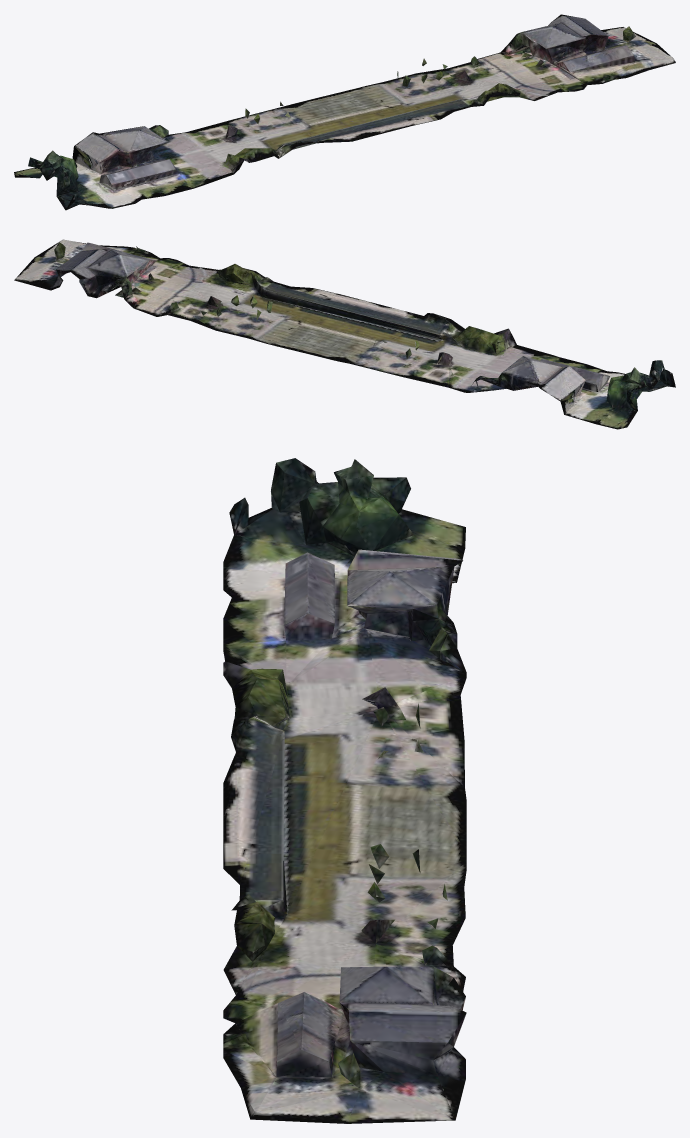
3 renders of one model, top to bottom at view 1: azimuth 30°, elevation 25°; view 2: azimuth 150°, elevation 25°; view 3: azimuth 270°, elevation 25°, orthographic. The views are drawn at different scales.
Bounding box in the file's own units: 337 × 21.63 × 57.53.
Materials: 1 (1 with a texture image).
